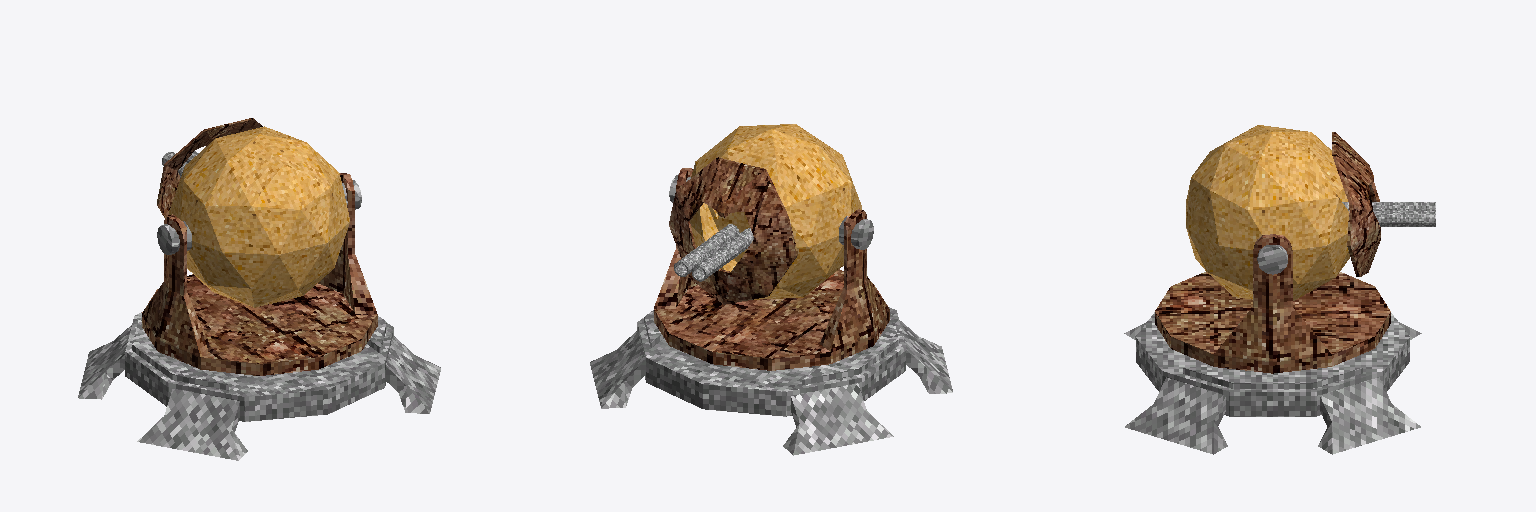
The picture shows the model from 3 angles: view 1: azimuth 30°, elevation 25°; view 2: azimuth 150°, elevation 25°; view 3: azimuth 270°, elevation 25°; orthographic projection.
Parts seen in each view (by area): view 1: Turret; view 2: Turret; view 3: Turret.
Part boxes in pixels (left/top/right/bottom): Turret: left=78, top=118, right=440, bottom=460; Turret: left=590, top=124, right=952, bottom=455; Turret: left=1124, top=125, right=1435, bottom=454.
Size of the model in its own units: 2.56 by 2 by 2.27.
Materials: 3 (3 with a texture image).